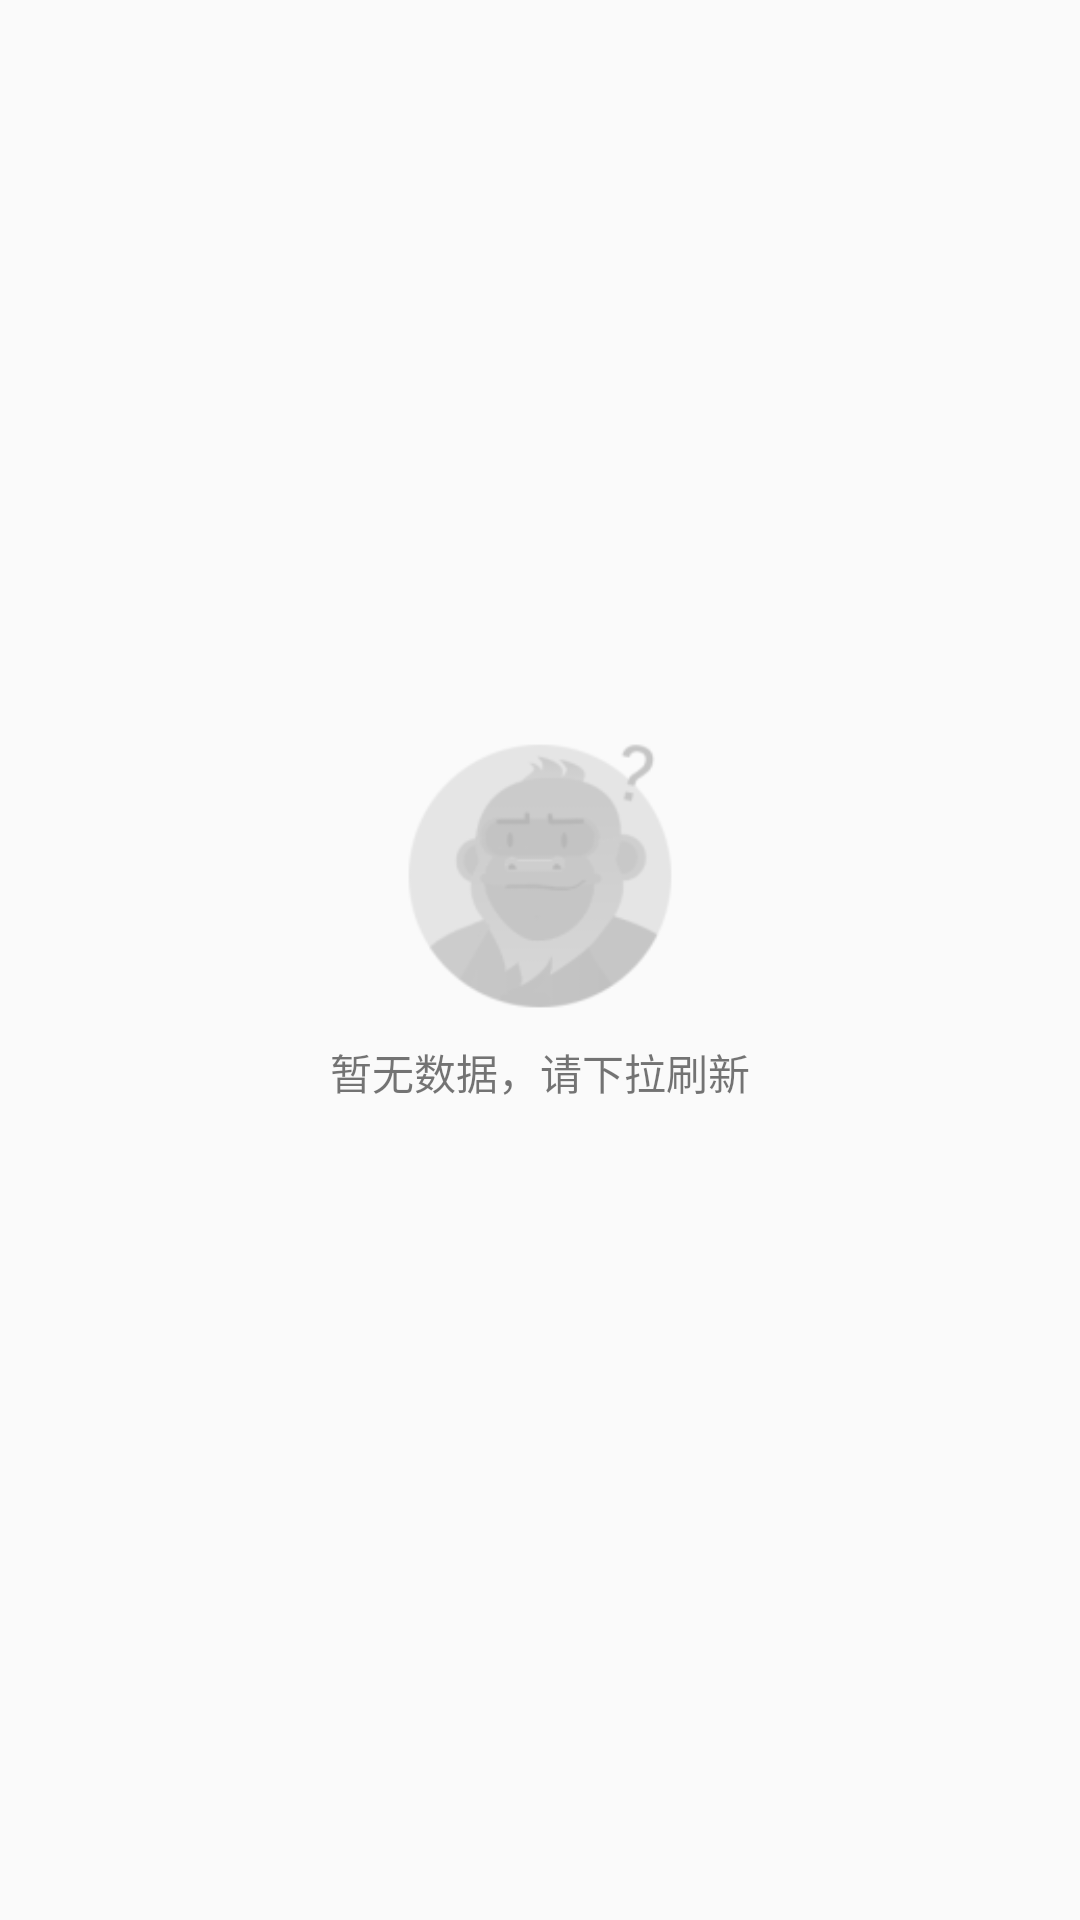

Icon bounding boxes for this 1080 × 1920 phone screenshot, format Rect(x1, y1, x2, y2):
error: Rect(430, 745, 657, 1007)
